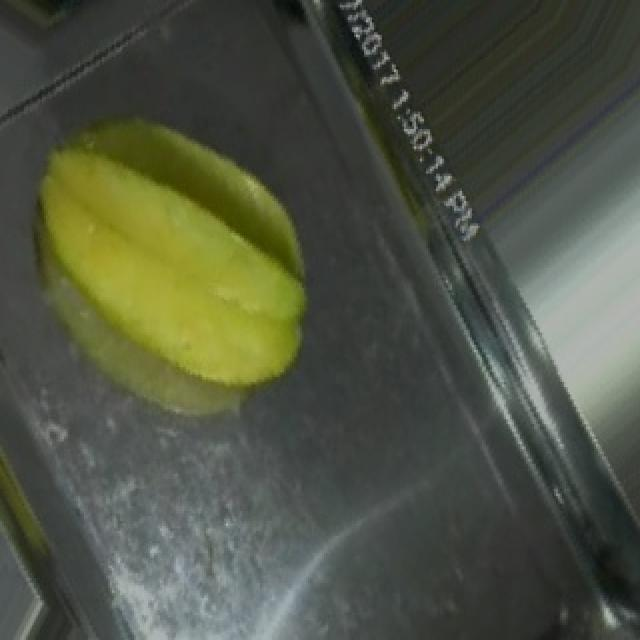fruit: (0, 74, 366, 454)
